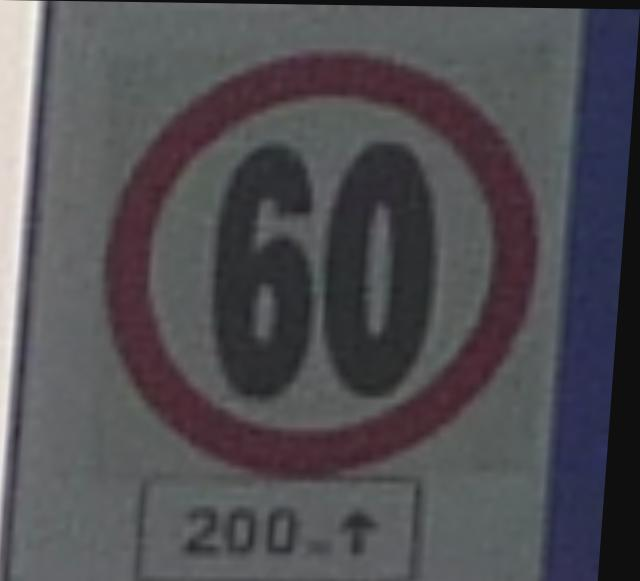limit60: (80, 33, 564, 491)
